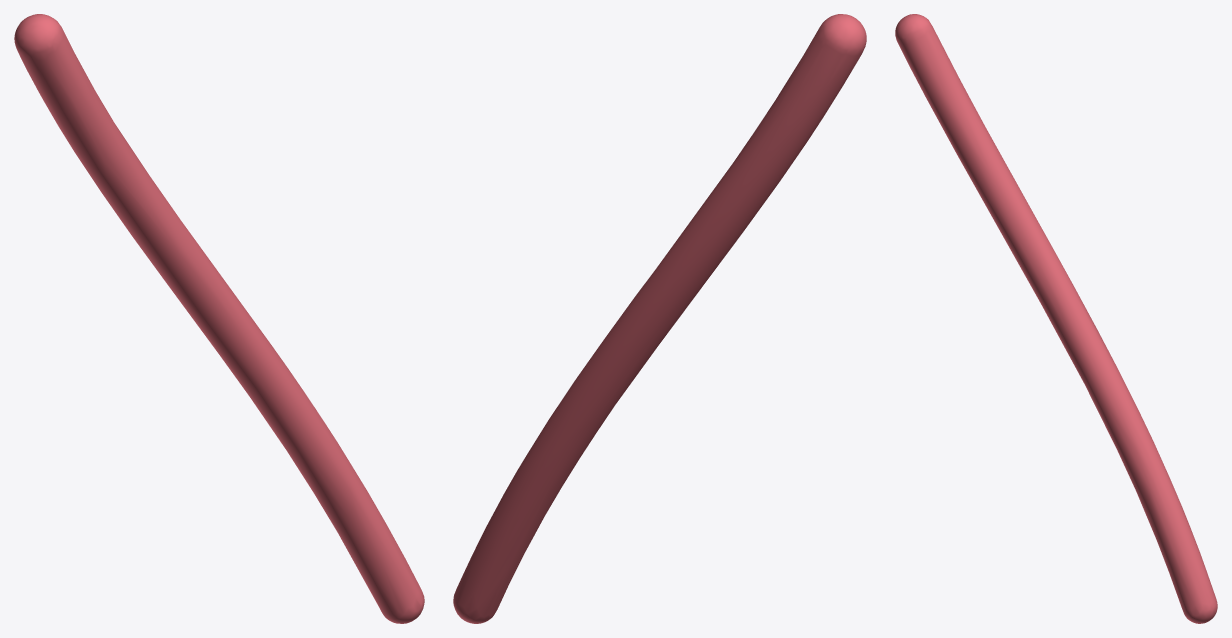
The model's file is fma23127_fj2261.glb.
3 views of the same model, side by side, from view 1: azimuth 30°, elevation 25°; view 2: azimuth 150°, elevation 25°; view 3: azimuth 330°, elevation 25° (orthographic). The views are drawn at different scales.
Parts seen in each view (by area): view 1: FMA23127_FJ2261; view 2: FMA23127_FJ2261; view 3: FMA23127_FJ2261.
Boxes of the visible parts, left/top/right/bottom form: FMA23127_FJ2261: left=14, top=14, right=424, bottom=623; FMA23127_FJ2261: left=453, top=14, right=866, bottom=623; FMA23127_FJ2261: left=895, top=14, right=1217, bottom=623.
Size of the model in its own units: 0.0278 by 0.0455 by 0.00418.
